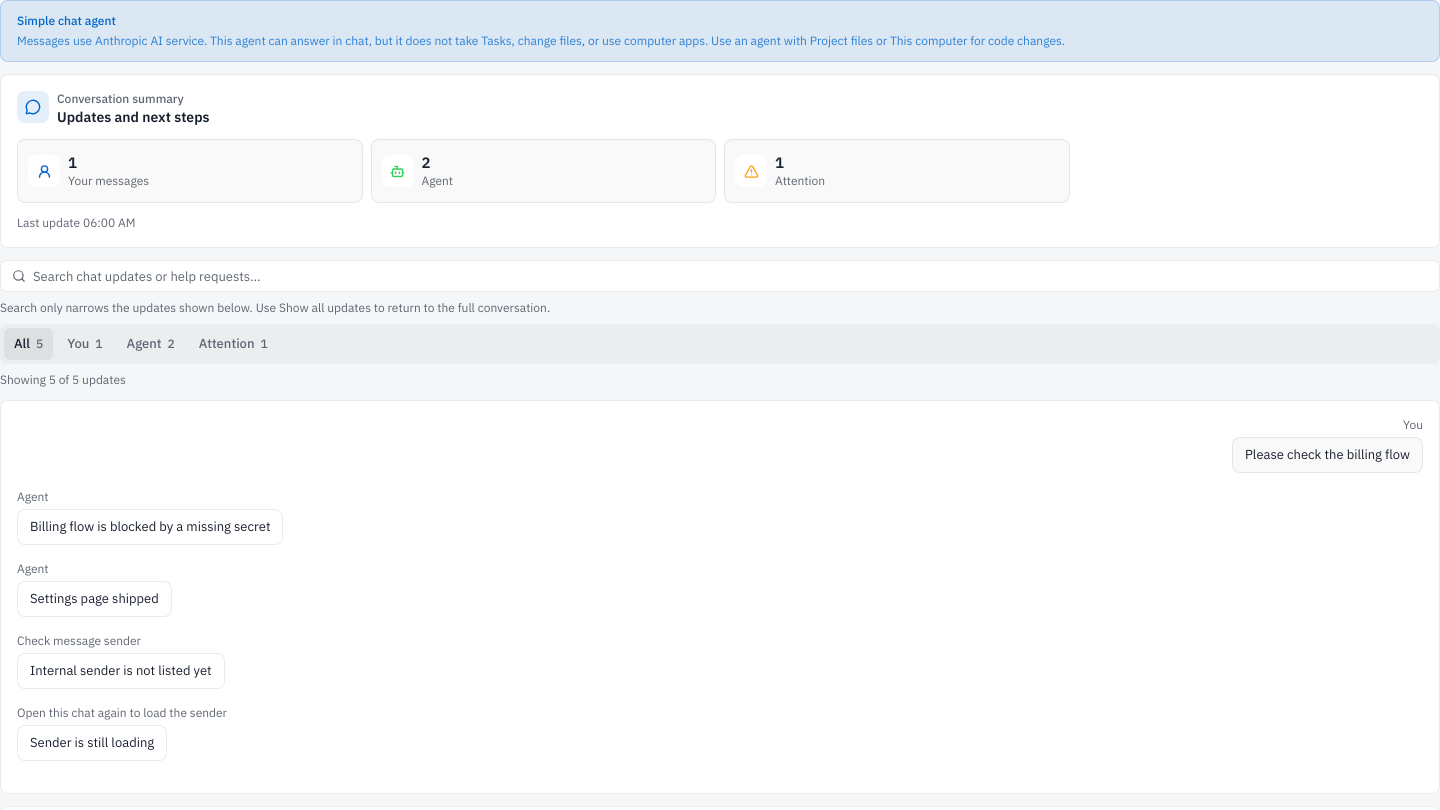
Test: ChatView › summarizes provider conversation handoff and filters updates
Expected: the element with test id "conversation-handoff-summary" is shown, [0,74,1439,248]
Expected: the text "Conversation summary" is shown, [57,91,184,106]
Click the button with aria-label "show updates that need your next step, 1 matching update" at (233, 344), box [189,328,278,360]
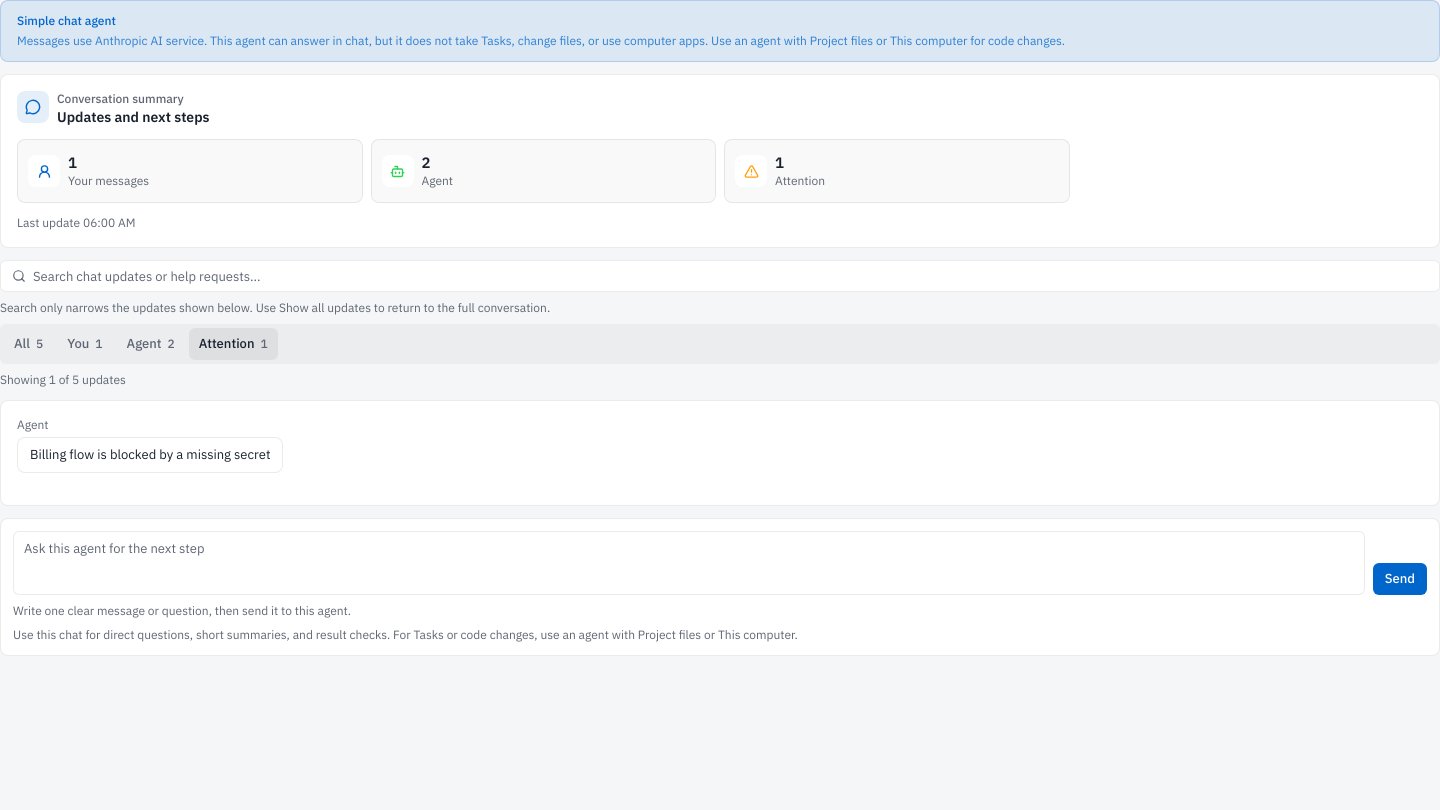
Expected: the text "Billing flow is blocked by a missing secret" is shown, [17,437,284,473]
Result: the text "Settings page shipped" is gone
Result: the message with test id "conversation-result-count" reads "Showing 1 of 5 updates" at [0,372,126,387]
Type "missing-term" into the search field with test id "conversation-search" at (720, 276), box [0,260,1439,292]
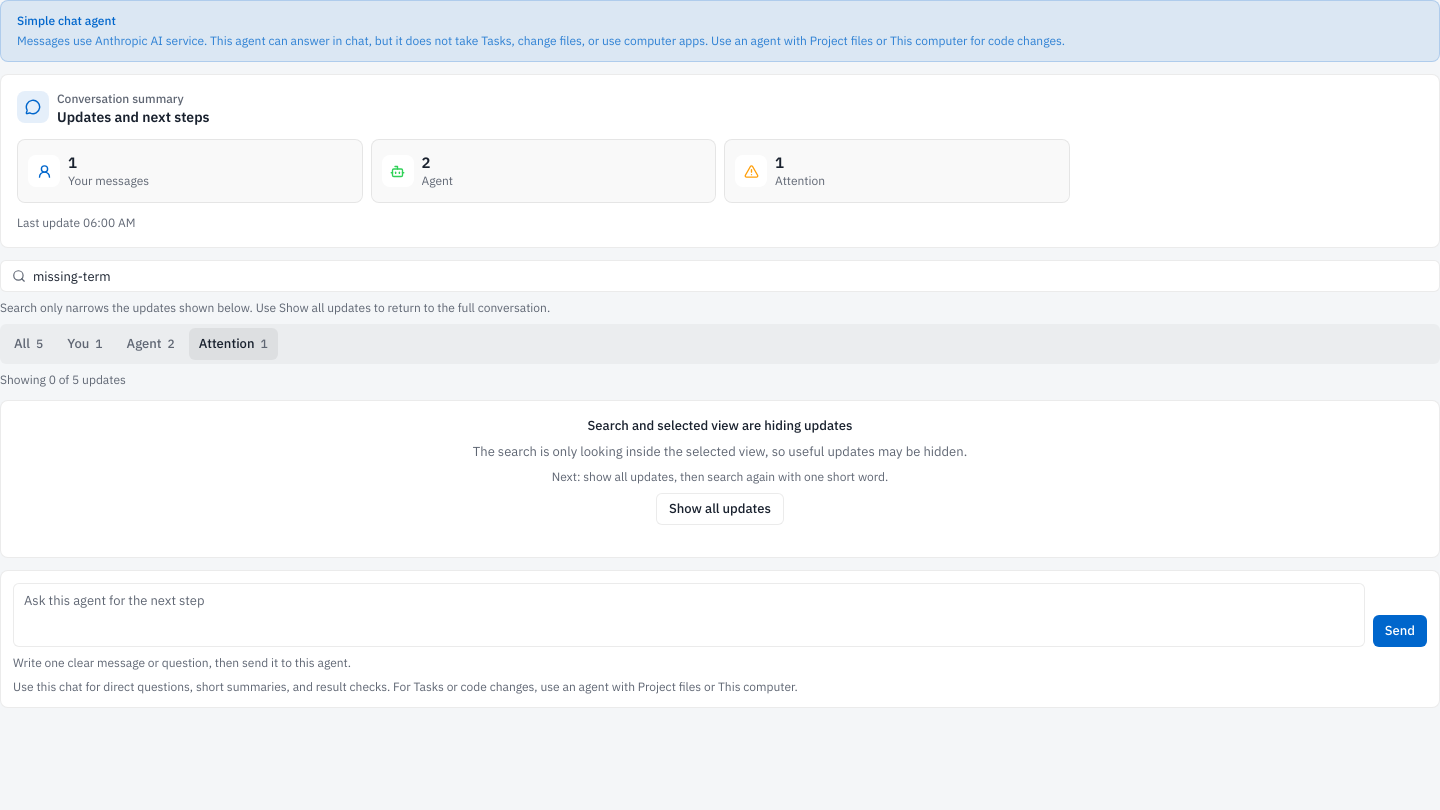
Result: the message with test id "conversation-filter-empty" is shown at [473,417,967,525]
Result: the text "Search and selected view are hiding updates" is shown at [588,417,852,435]
Result: the text "useful updates may be hidden" is shown at [473,443,967,460]
Click the button "Show all updates" at (720, 509), box [656,493,784,525]
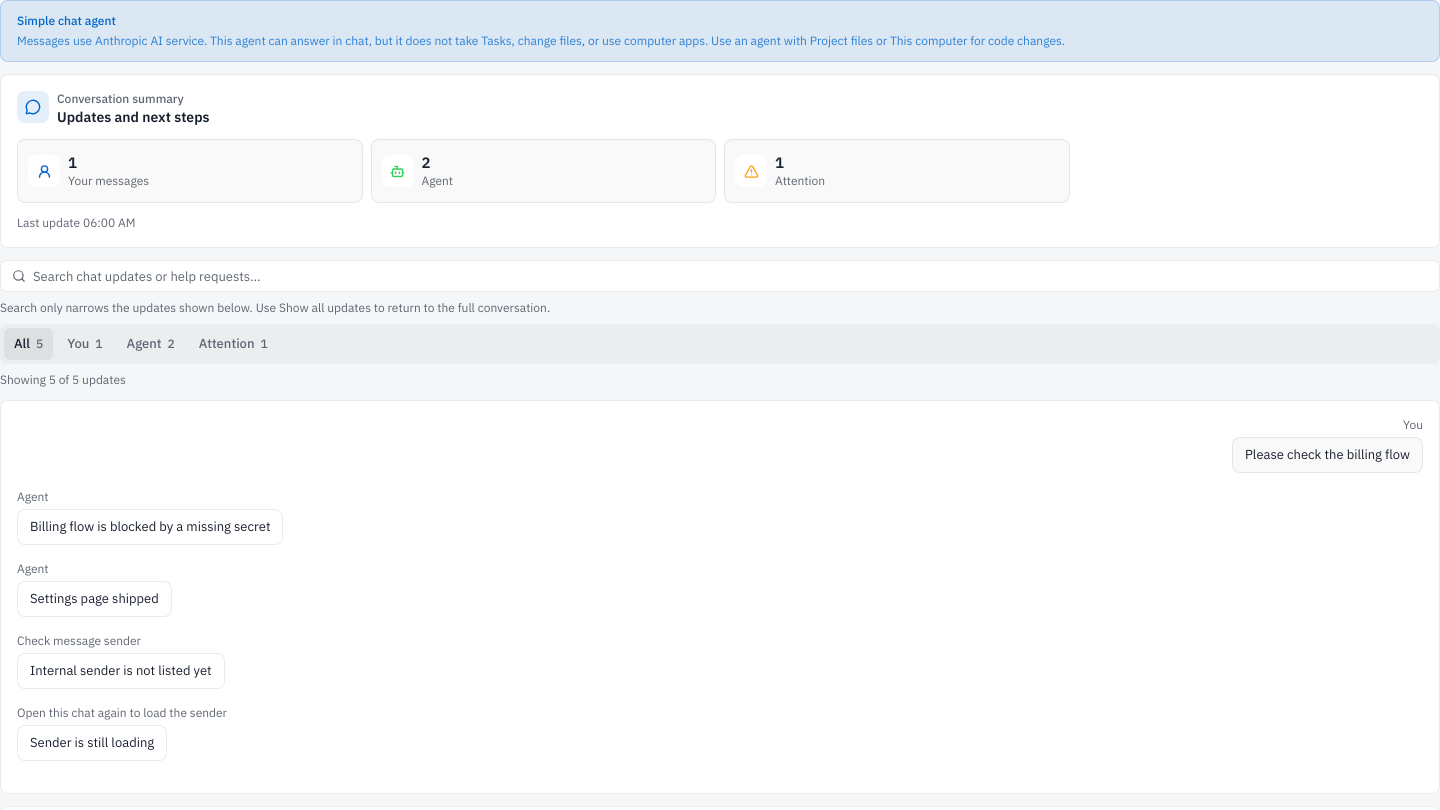
Result: the search field with test id "conversation-search" is empty at [0,260,1439,292]
Result: the text "Settings page shipped" is shown at [17,581,172,617]
